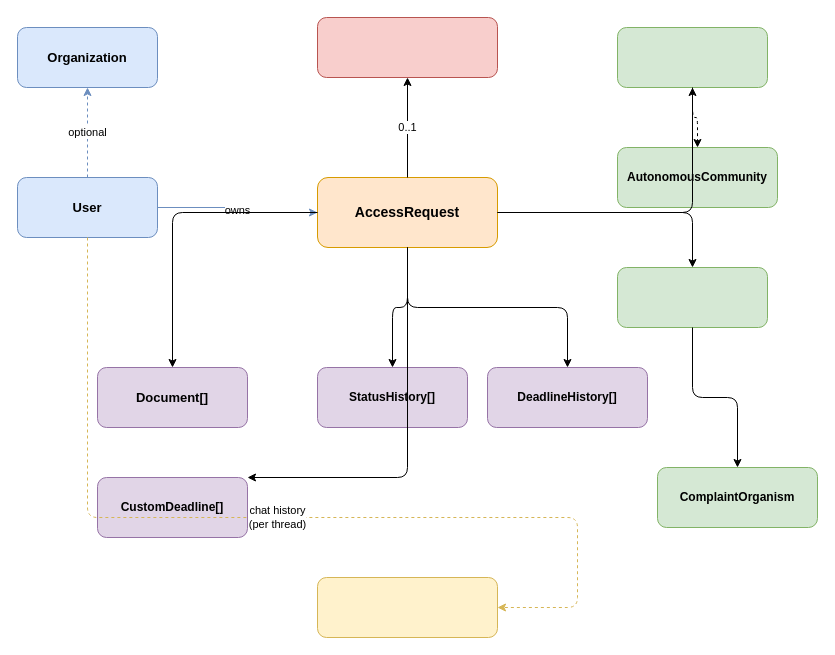
This 835x655 diagram has some shape labels left out. Here are the shapes that lost their labels. From the top down, the centre of each, then its label:
At pixel 407 47: "AccessRequestComplaint (0..1)".
At pixel 692 57: "PublicBody".
At pixel 692 297: "ApplicableLaw".
At pixel 407 607: "ai_chat_messages (per user, per thread)".
